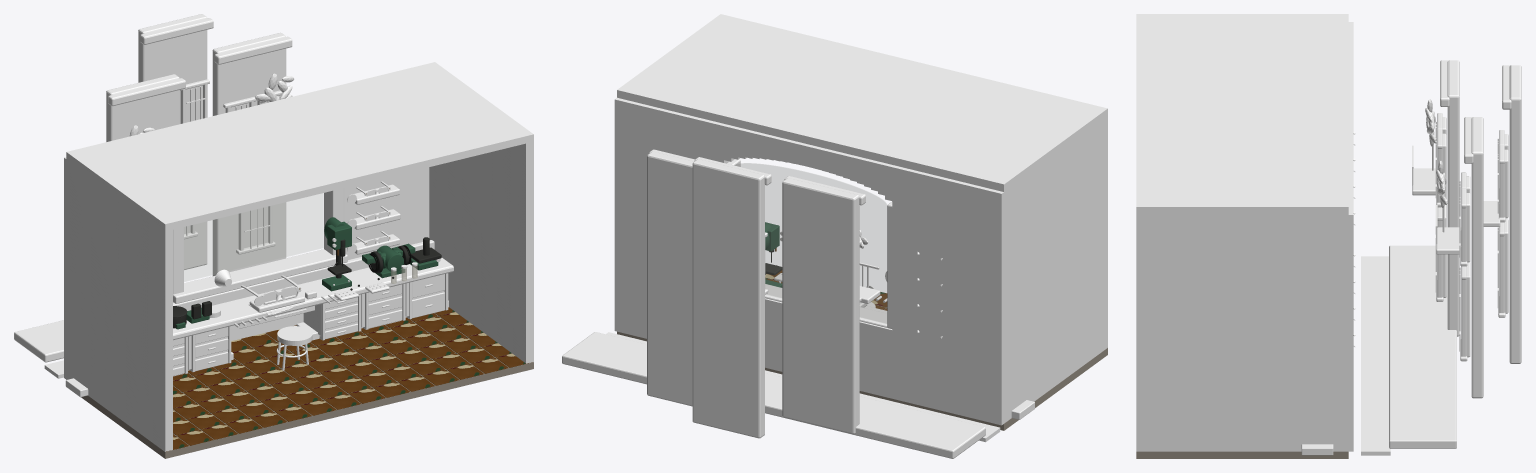
File: puerto-nuevo-client-preview-v2.glb
The picture shows the model from 3 angles, left to right: view 1: azimuth 30°, elevation 25°; view 2: azimuth 150°, elevation 25°; view 3: azimuth 270°, elevation 25°; orthographic projection. The views are drawn at different scales.
Parts seen in each view (by area): view 1: PN_Ceiling, PN_Wall_Left, PN_Wall_Right, PN_Window_Glass, PN_Exterior_Coral_Facade, PN_Floor, PN_Exterior_Cream_Facade, PN_BackWall_Right, PN_Workbench_Countertop, PN_Exterior_Turquoise_Facade, PN_Window_Sill, PN_Workbench_BackRail (+15 smaller); view 2: PN_Ceiling, PN_BackWall_Left, PN_Wall_Left, PN_Exterior_Cream_Facade, PN_Exterior_Turquoise_Facade, PN_Exterior_Coral_Facade, PN_BackWall_Right, PN_Exterior_Sidewalk, PN_Window_Glass, PN_BackWall_AboveWindow, PN_BackWall_BelowWindow, PN_Floor (+3 smaller); view 3: PN_Wall_Right, PN_Ceiling, PN_Exterior_Sidewalk, PN_Exterior_Street, PN_Exterior_Cream_Facade, PN_Exterior_Coral_Facade, PN_Exterior_Turquoise_Facade, PN_BackWall_Right, PN_Floor, PN_Exterior_Coral_Window_L_BalconySlab, PN_Exterior_Turquoise_Window_L_BalconySlab, PN_BackWall_AboveWindow (+8 smaller).
Boxes of the visible parts, left/top/right/bottom form: PN_Ceiling: left=66, top=62, right=533, bottom=231; PN_Wall_Left: left=66, top=159, right=172, bottom=451; PN_Wall_Right: left=429, top=141, right=533, bottom=363; PN_Window_Glass: left=184, top=193, right=323, bottom=281; PN_Exterior_Coral_Facade: left=212, top=32, right=286, bottom=275; PN_Floor: left=81, top=313, right=533, bottom=458; PN_Exterior_Cream_Facade: left=138, top=14, right=207, bottom=269; PN_BackWall_Right: left=344, top=167, right=429, bottom=259; PN_Workbench_Countertop: left=173, top=257, right=453, bottom=340; PN_Exterior_Turquoise_Facade: left=106, top=74, right=179, bottom=141; PN_Window_Sill: left=173, top=249, right=347, bottom=303; PN_Workbench_BackRail: left=173, top=240, right=434, bottom=310; PN_Ceiling: left=617, top=14, right=1107, bottom=191; PN_BackWall_Left: left=892, top=165, right=1006, bottom=425; PN_Wall_Left: left=1004, top=116, right=1107, bottom=423; PN_Exterior_Cream_Facade: left=692, top=159, right=764, bottom=438; PN_Exterior_Turquoise_Facade: left=782, top=178, right=859, bottom=434; PN_Exterior_Coral_Facade: left=647, top=151, right=693, bottom=406; PN_BackWall_Right: left=614, top=97, right=728, bottom=338; PN_Exterior_Sidewalk: left=562, top=332, right=985, bottom=458; PN_Window_Glass: left=735, top=163, right=886, bottom=323; PN_BackWall_AboveWindow: left=724, top=124, right=894, bottom=187; PN_BackWall_BelowWindow: left=765, top=298, right=892, bottom=398; PN_Floor: left=617, top=278, right=1107, bottom=430; PN_Wall_Right: left=1136, top=215, right=1348, bottom=451; PN_Ceiling: left=1136, top=14, right=1348, bottom=214; PN_Exterior_Sidewalk: left=1389, top=245, right=1456, bottom=448; PN_Exterior_Street: left=1361, top=256, right=1390, bottom=455; PN_Exterior_Cream_Facade: left=1509, top=65, right=1521, bottom=363; PN_Exterior_Coral_Facade: left=1471, top=117, right=1483, bottom=398; PN_Exterior_Turquoise_Facade: left=1447, top=60, right=1459, bottom=336; PN_BackWall_Right: left=1343, top=160, right=1353, bottom=451; PN_Floor: left=1136, top=451, right=1348, bottom=458; PN_Exterior_Coral_Window_L_BalconySlab: left=1436, top=227, right=1461, bottom=254; PN_Exterior_Turquoise_Window_L_BalconySlab: left=1412, top=168, right=1437, bottom=195; PN_BackWall_AboveWindow: left=1348, top=76, right=1353, bottom=160.
Size of the model in its own units: 8.76 by 5.7 by 7.08.
42 materials, 1 textured.
